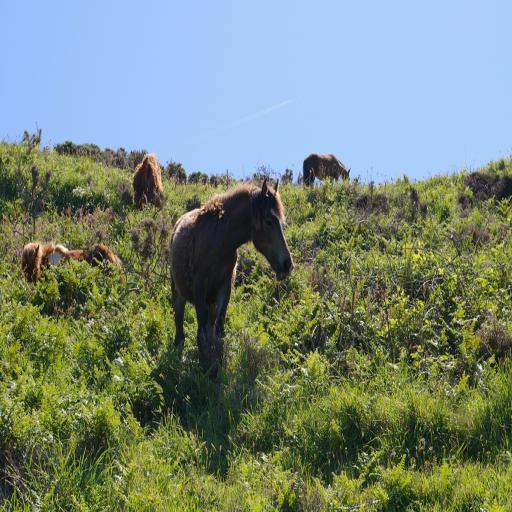horse: (168, 176, 296, 382), (20, 240, 126, 318), (302, 150, 352, 187)
